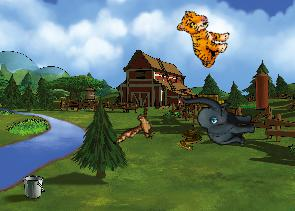eagle: (112, 100, 164, 157)
elephant: (180, 86, 257, 151)
tiger: (167, 6, 235, 71)
